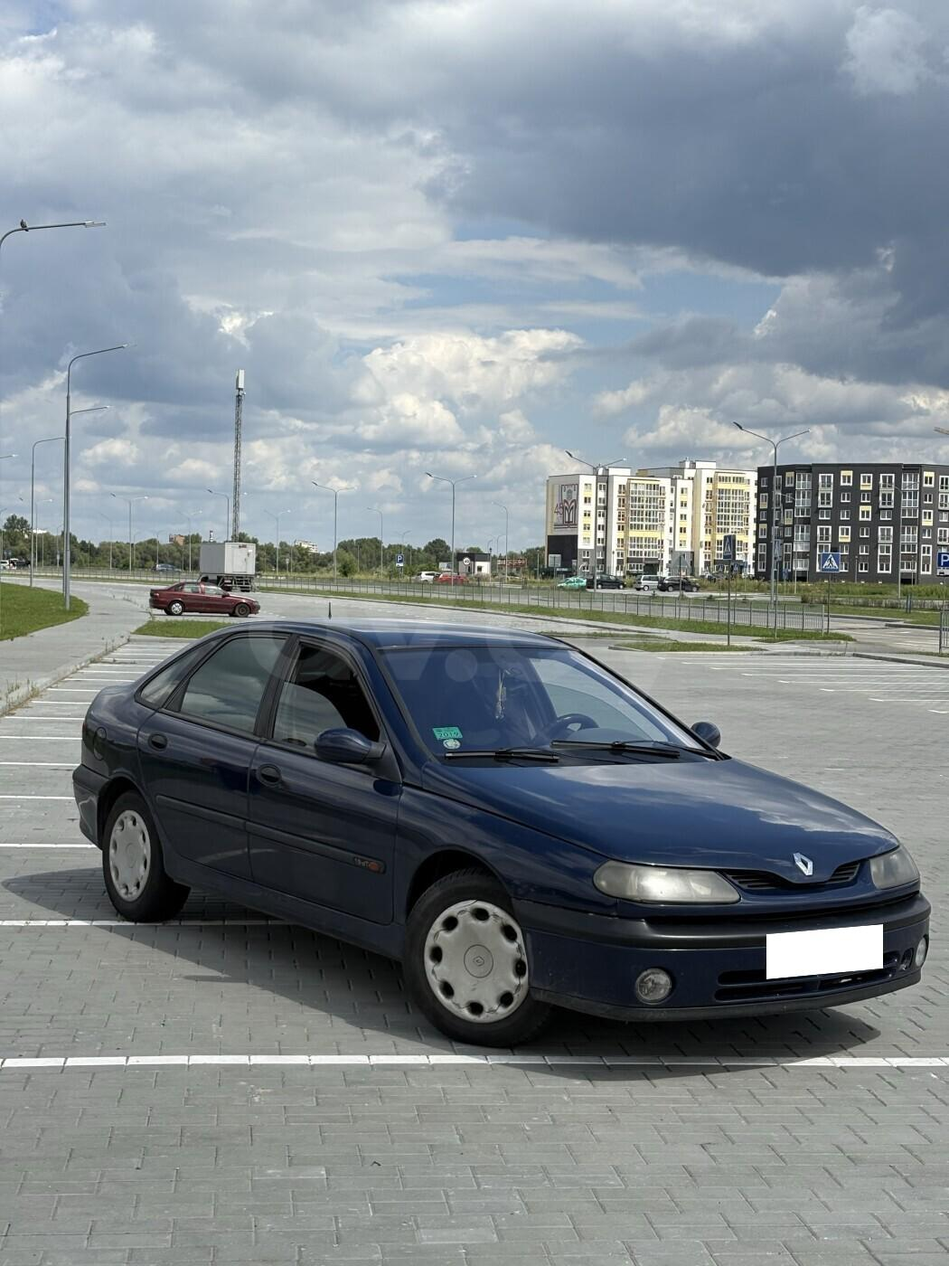Laguna_1998-2001: (70, 609, 938, 1060)
